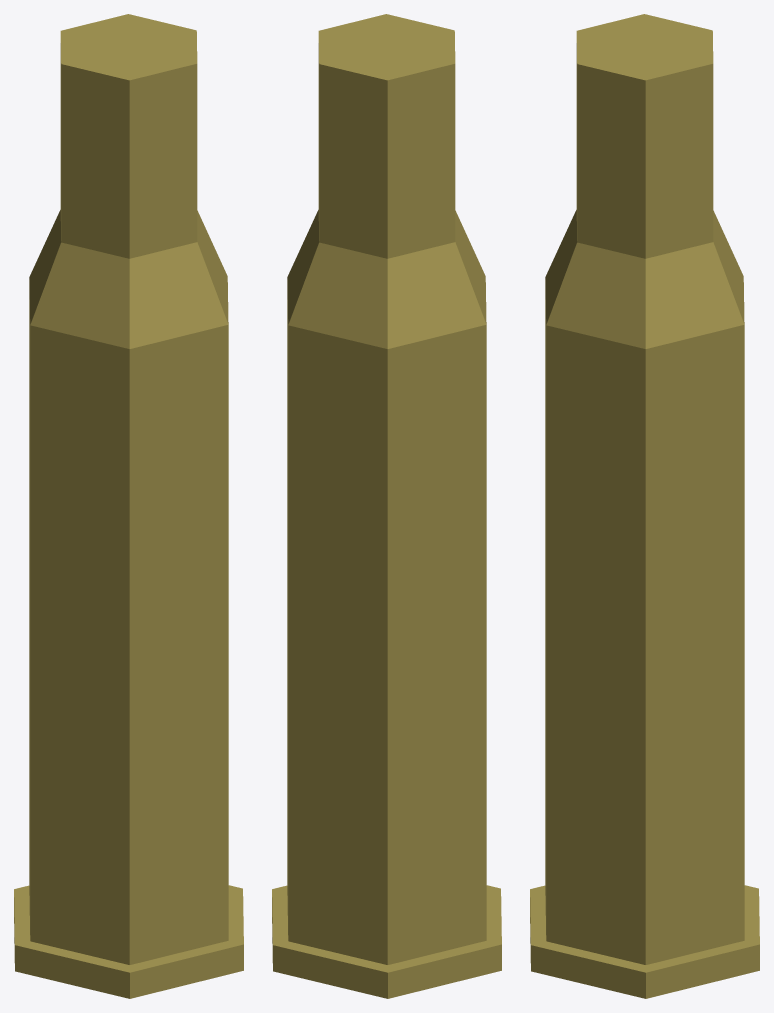
3 views of the same model, side by side, from view 1: azimuth 30°, elevation 25°; view 2: azimuth 150°, elevation 25°; view 3: azimuth 270°, elevation 25° (orthographic).
Visible parts, largest first — view 1: 7,62x54; view 2: 7,62x54; view 3: 7,62x54.
Part boxes in pixels (x1,y1,x2,y2): 7,62x54: (14, 14, 243, 998); 7,62x54: (272, 14, 501, 998); 7,62x54: (530, 14, 759, 998).
Size of the model in its own units: 1.05 by 3.92 by 0.9111.
1 material, 1 textured.
